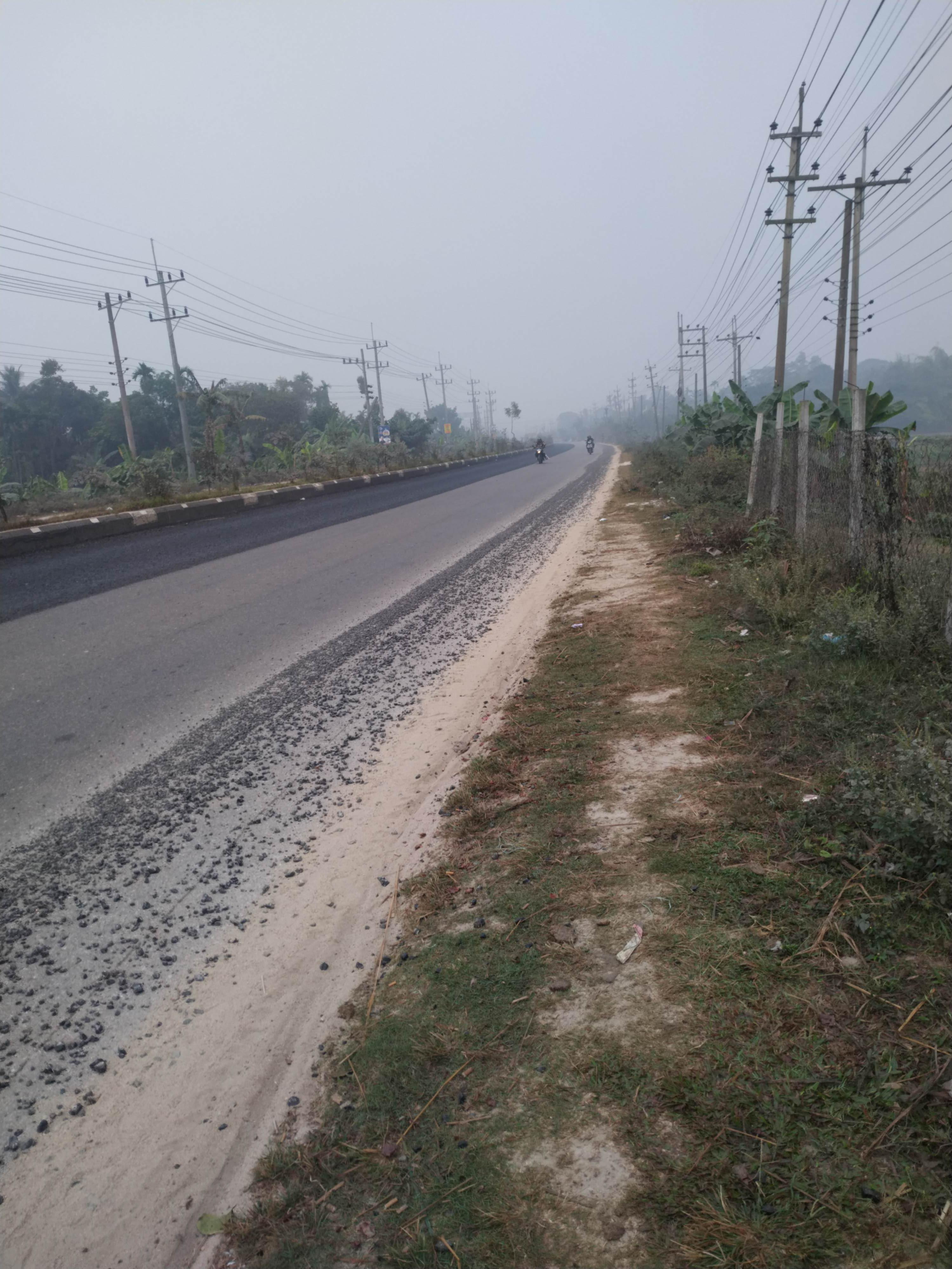Bike: (574, 424, 607, 470), (521, 430, 557, 470)
